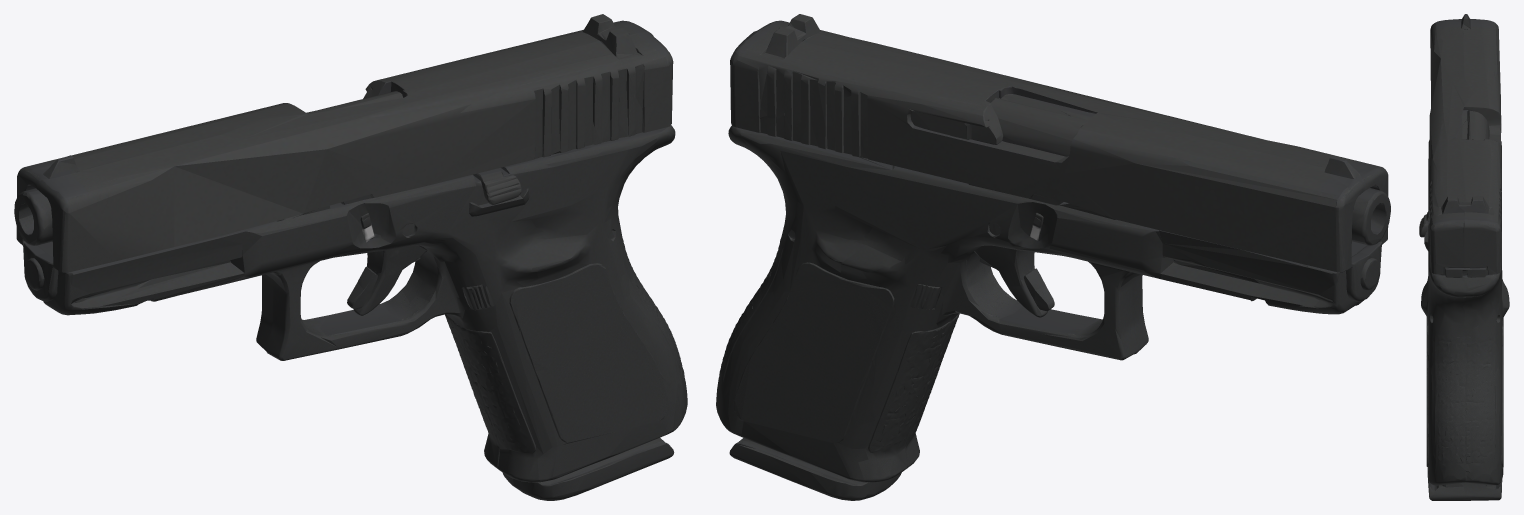
File: gun.glb
3 views of the same model, side by side, from view 1: azimuth 30°, elevation 25°; view 2: azimuth 150°, elevation 25°; view 3: azimuth 270°, elevation 25° (orthographic). The views are drawn at different scales.
Parts seen in each view (by area): view 1: Mesh_0; view 2: Mesh_0; view 3: Mesh_0.
Part boxes in pixels (x1=…): Mesh_0: x1=14, y1=14, x2=687, y2=500; Mesh_0: x1=716, y1=14, x2=1390, y2=500; Mesh_0: x1=1419, y1=14, x2=1509, y2=500.
Bounding box in the file's own units: 0.2006 × 0.13 × 0.035.
1 material, 1 textured.
